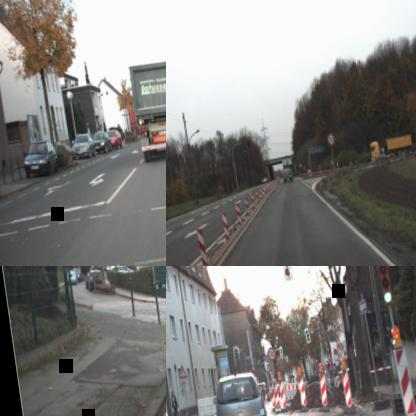DANGER: (176, 362, 187, 380)
speed limit 30: (266, 346, 276, 361)
speed limit 50: (326, 132, 335, 145)
